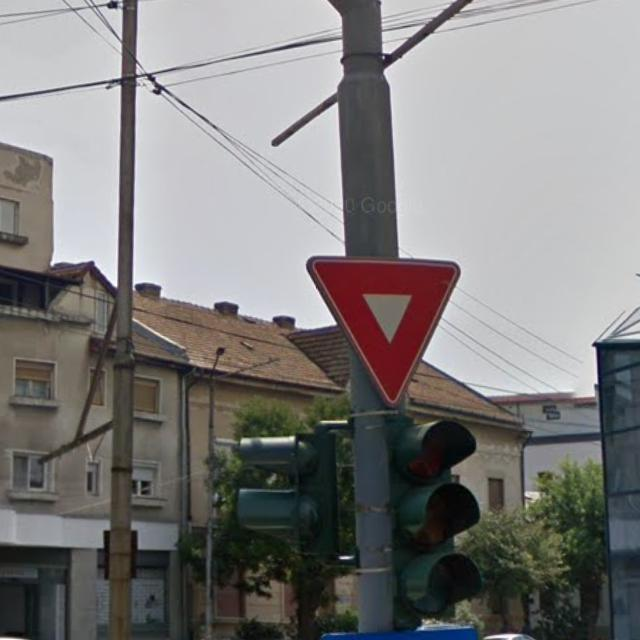prio_give_way: (306, 254, 463, 406)
